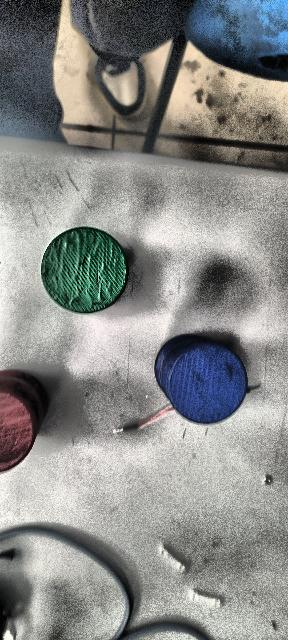blue: (154, 334, 248, 424)
green: (41, 225, 129, 313)
red: (0, 363, 54, 491)
